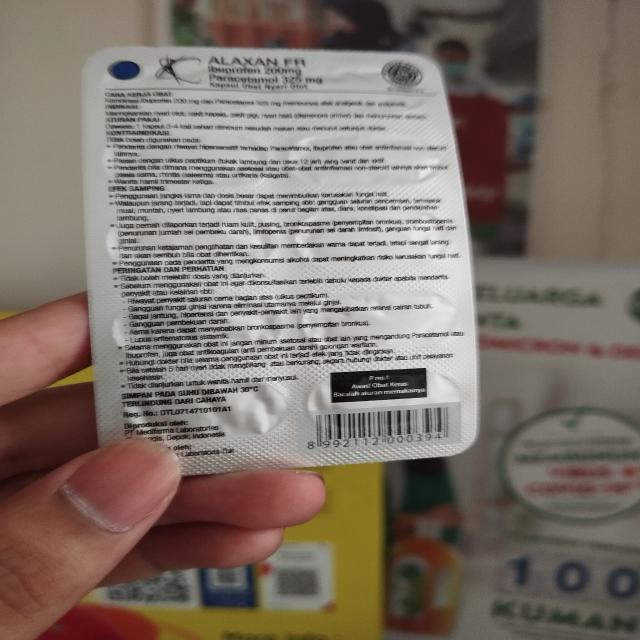B3: (81, 48, 480, 479)
